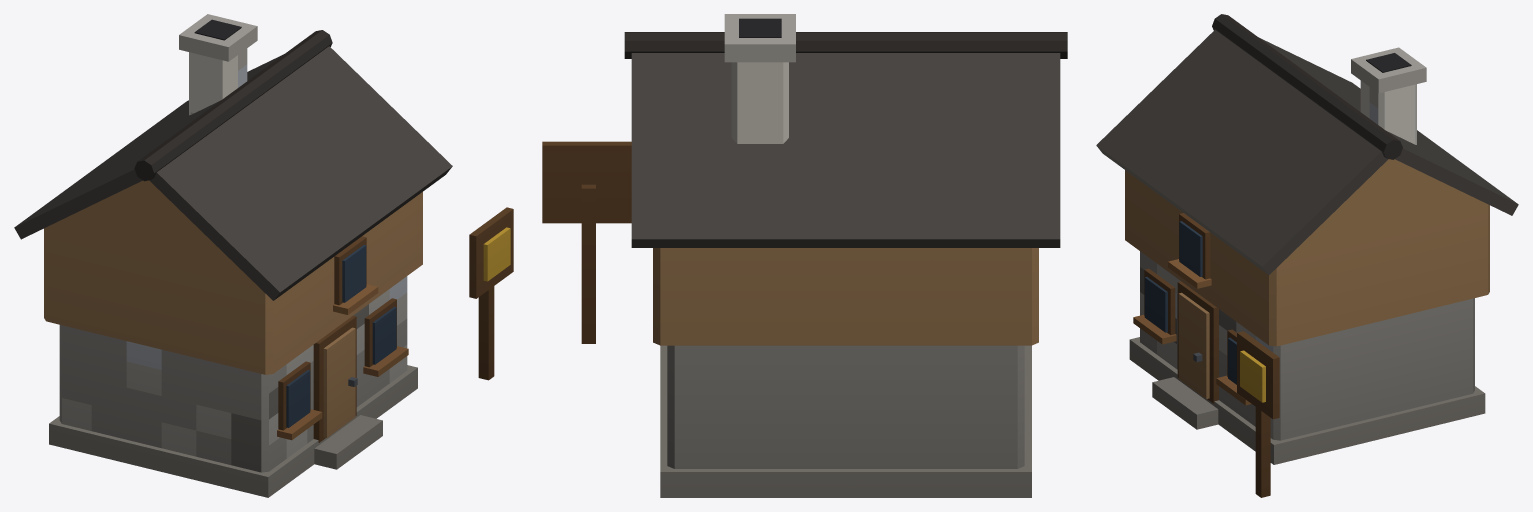
File: building_18.glb
3 renders of one model, left to right at view 1: azimuth 30°, elevation 25°; view 2: azimuth 150°, elevation 25°; view 3: azimuth 270°, elevation 25°, orthographic. The views are drawn at different scales.
Parts seen in each view (by area): view 1: building_18; view 2: building_18; view 3: building_18.
Part boxes in pixels (x1,y1,x2,y2): building_18: (14, 14, 513, 497); building_18: (542, 14, 1067, 497); building_18: (1096, 14, 1518, 497).
Size of the model in its own units: 0.9198 by 0.67 by 0.7622.
